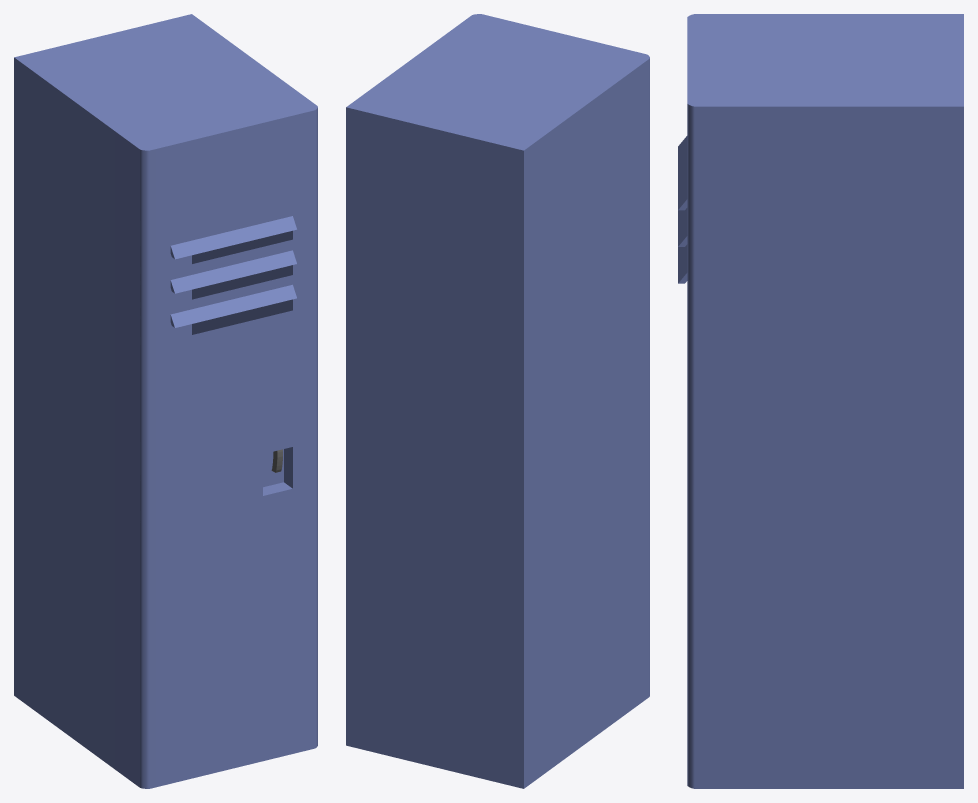
File: Blue-Locker_Lab.fbx
The picture shows the model from 3 angles, left to right: view 1: azimuth 30°, elevation 25°; view 2: azimuth 150°, elevation 25°; view 3: azimuth 270°, elevation 25°; orthographic projection. The views are drawn at different scales.
Visible parts, largest first — view 1: polySurface2; view 2: polySurface2; view 3: polySurface2.
Boxes of the visible parts, x1,y1,x2,y2 form: polySurface2: [14, 14, 317, 788]; polySurface2: [346, 14, 649, 788]; polySurface2: [678, 14, 963, 788].
Bounding box in the file's own units: 2.17 × 7.46 × 2.83.
